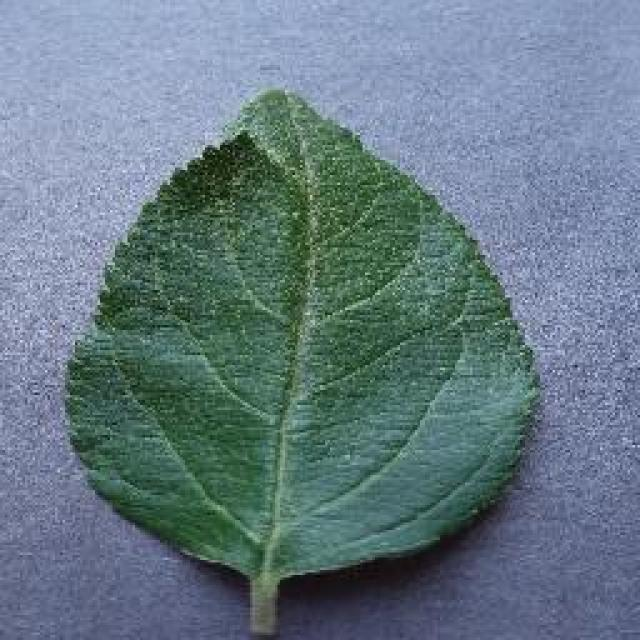apple healthy: (60, 82, 545, 638)
